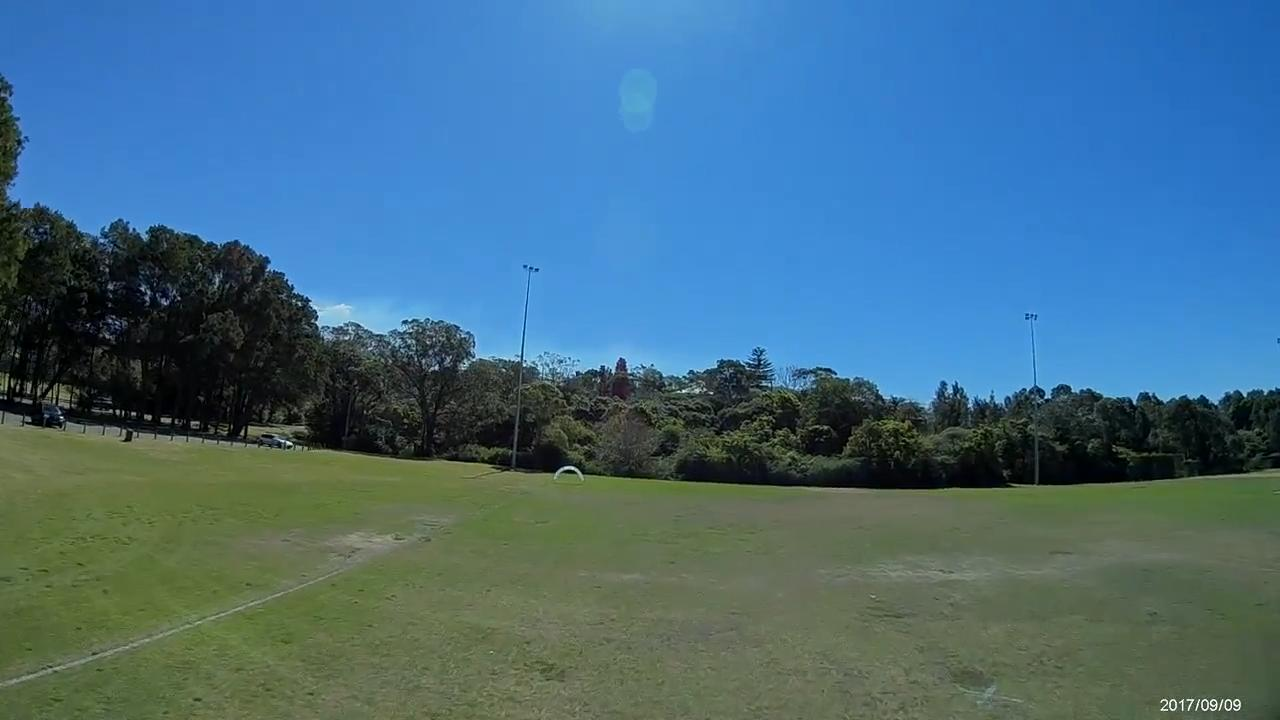gate: (553, 465, 587, 485)
